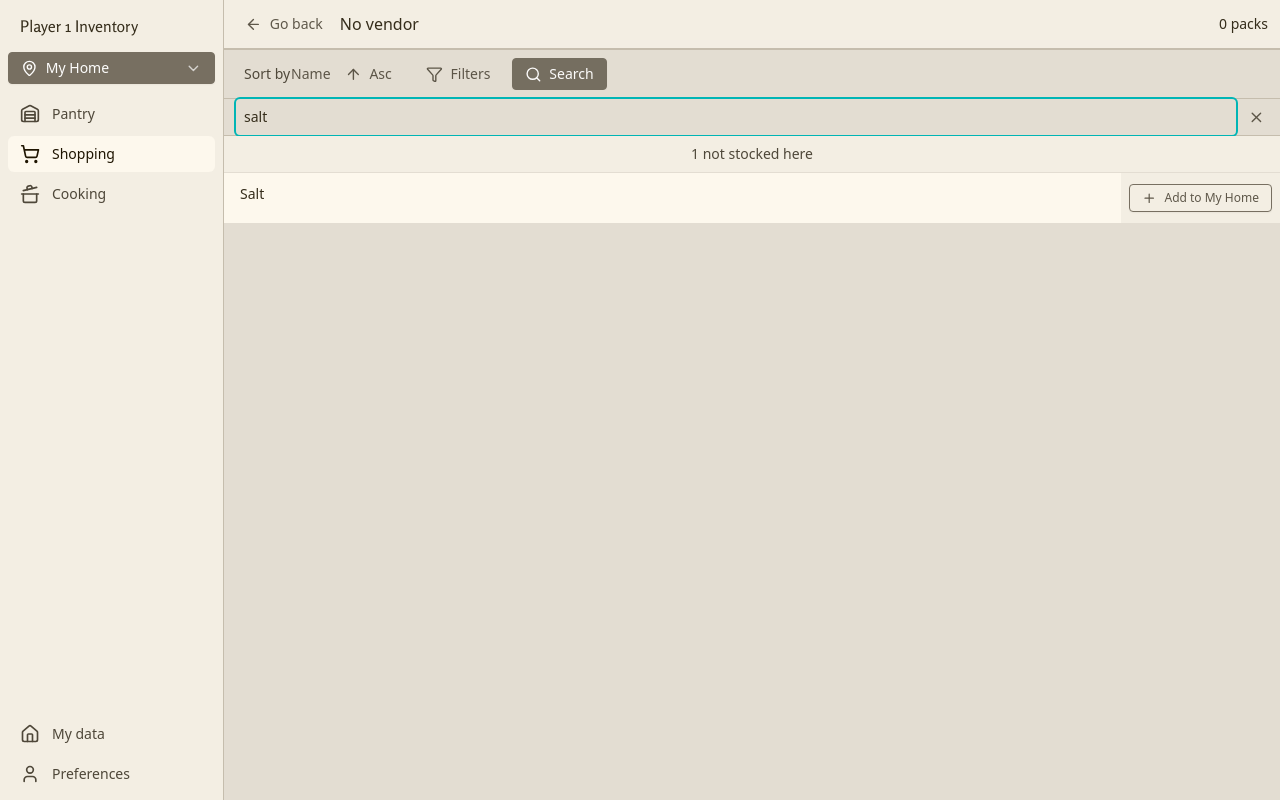
it: Vendor cart page › search tail (unified item search) › user can stock a VENDORLESS item from the no-vendor cart and it lands in the cart list itself
Click the button with aria-label "Add to My Home: Salt". click: click(1201, 198)
box: top-left (1129, 184), bottom-right (1272, 212)
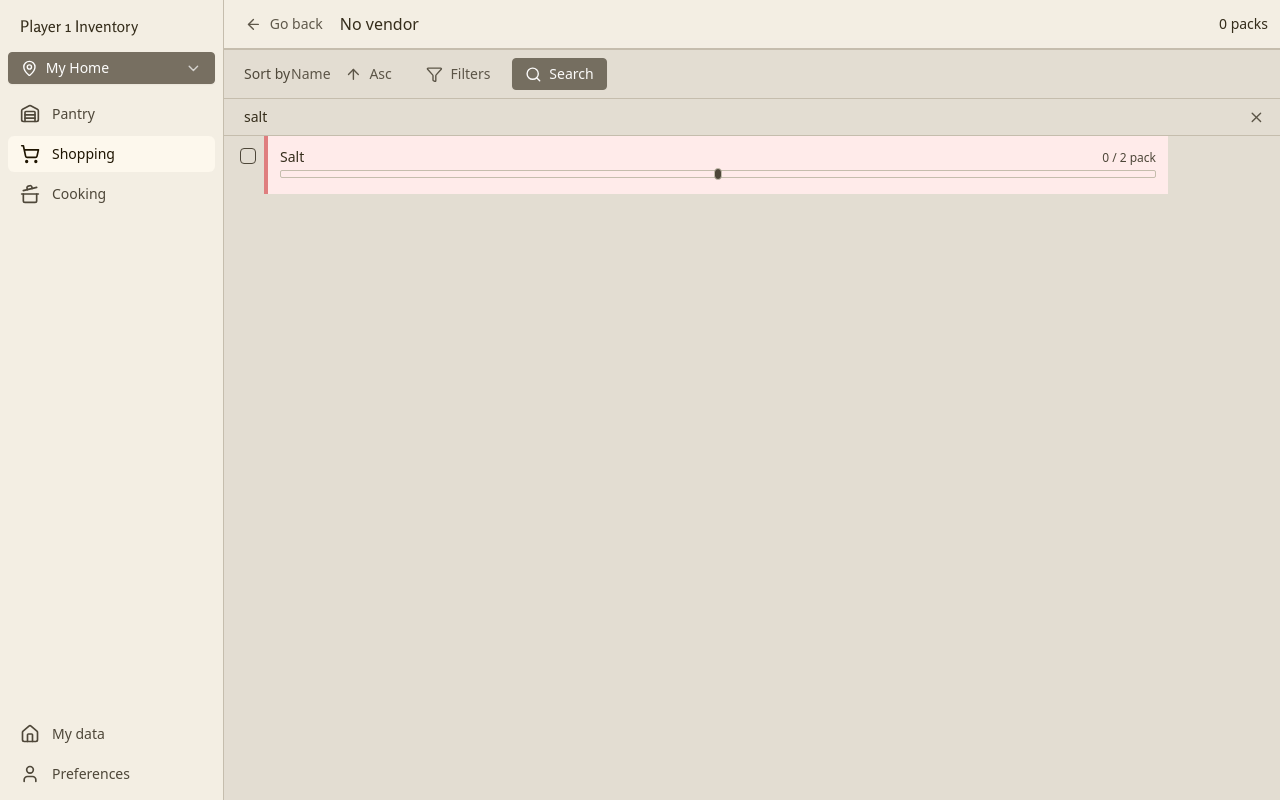
Expected: the checkbox named "salt" is shown, top-left (240, 148), bottom-right (256, 164)
Expected: the text "not stocked here" is gone
